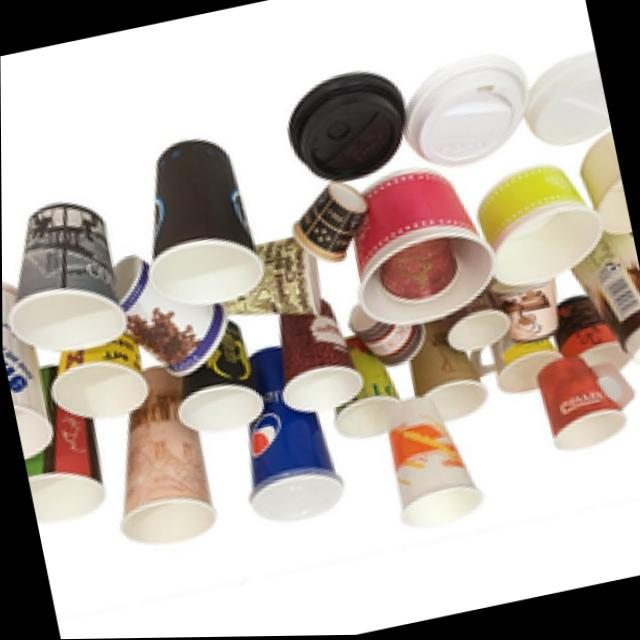paper_cups: (339, 164, 496, 330), (129, 131, 265, 314), (1, 190, 130, 361), (103, 234, 239, 388), (96, 390, 219, 553), (468, 154, 609, 295), (233, 385, 345, 531), (530, 342, 640, 460), (264, 293, 363, 419), (384, 410, 484, 533), (2, 274, 57, 459), (285, 176, 375, 272), (568, 130, 632, 243)
